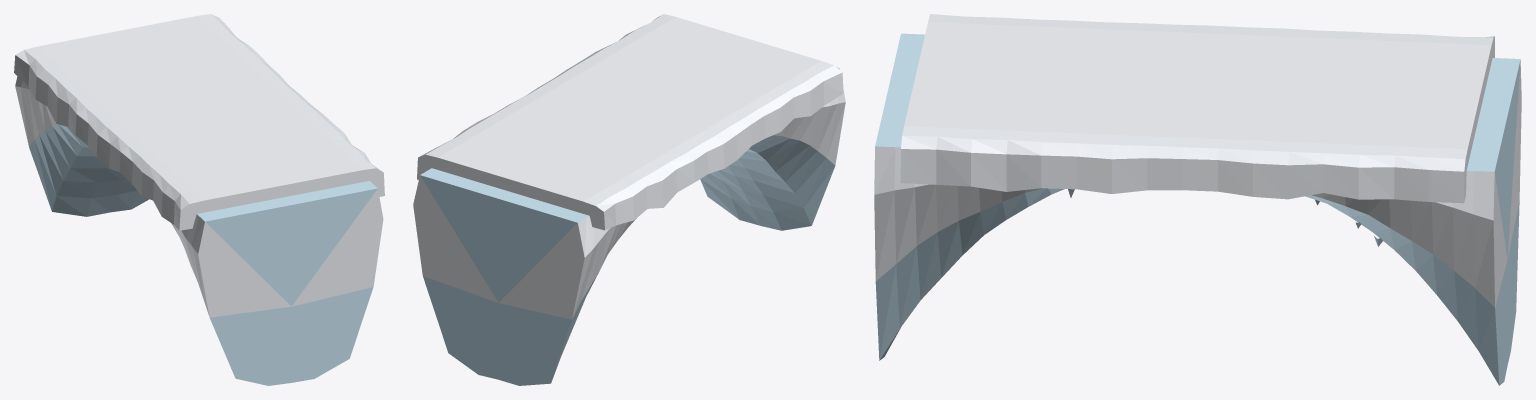
3 renders of one model, left to right at view 1: azimuth 30°, elevation 25°; view 2: azimuth 150°, elevation 25°; view 3: azimuth 270°, elevation 25°, orthographic. The views are drawn at different scales.
Parts seen in each view (by area): view 1: Mesh_L2A_SnowArch_31; view 2: Mesh_L2A_SnowArch_31; view 3: Mesh_L2A_SnowArch_31.
Boxes of the visible parts, x1,y1,x2,y2 form: Mesh_L2A_SnowArch_31: (14,14,384,385); Mesh_L2A_SnowArch_31: (413,14,845,385); Mesh_L2A_SnowArch_31: (874,14,1521,385).
Size of the model in its own units: 9.97 by 7.91 by 17.27.
